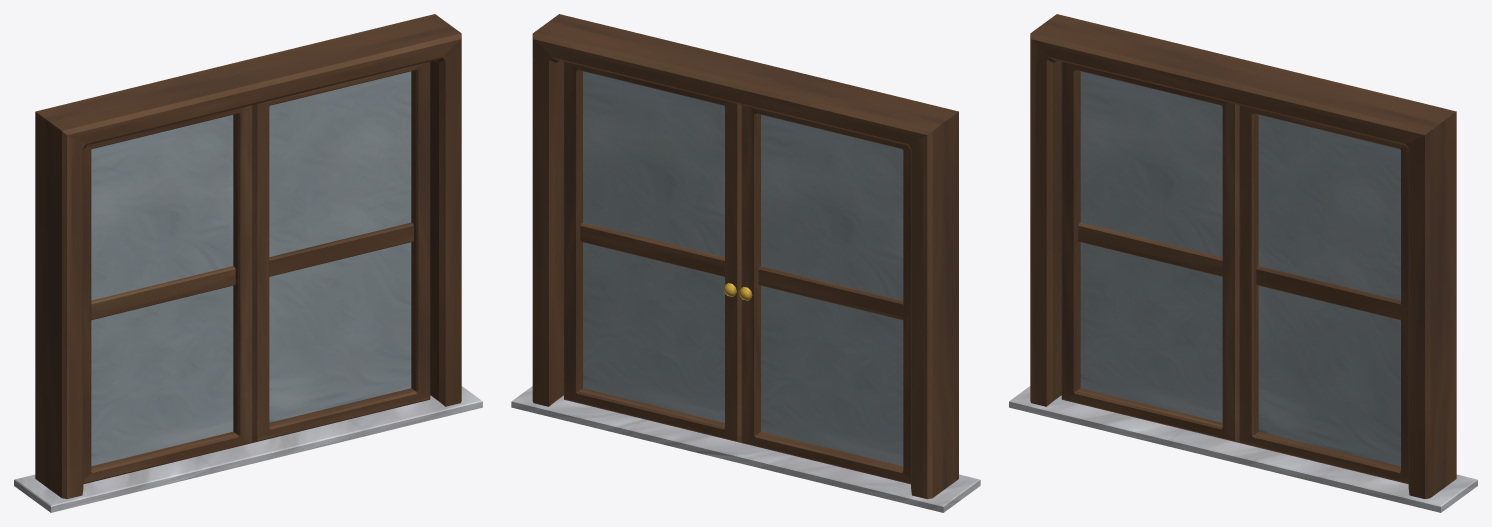
File: Window.fbx
The picture shows the model from 3 angles, left to right: view 1: azimuth 30°, elevation 25°; view 2: azimuth 150°, elevation 25°; view 3: azimuth 330°, elevation 25°; orthographic projection.
Parts seen in each view (by area): view 1: Anta_Dx, Anta_Sx, Frame; view 2: Anta_Dx, Anta_Sx, Frame; view 3: Anta_Sx, Anta_Dx, Frame.
Boxes of the visible parts, left/top/right/bottom form: Anta_Dx: left=252, top=62, right=430, bottom=442; Anta_Sx: left=83, top=105, right=252, bottom=484; Frame: left=14, top=14, right=482, bottom=512; Anta_Dx: left=564, top=61, right=741, bottom=442; Anta_Sx: left=739, top=105, right=910, bottom=484; Frame: left=511, top=14, right=980, bottom=512; Anta_Sx: left=1061, top=62, right=1239, bottom=442; Anta_Dx: left=1239, top=105, right=1408, bottom=484; Frame: left=1009, top=14, right=1477, bottom=512.
Bounding box in the file's own units: 150 × 124 × 22.25.
